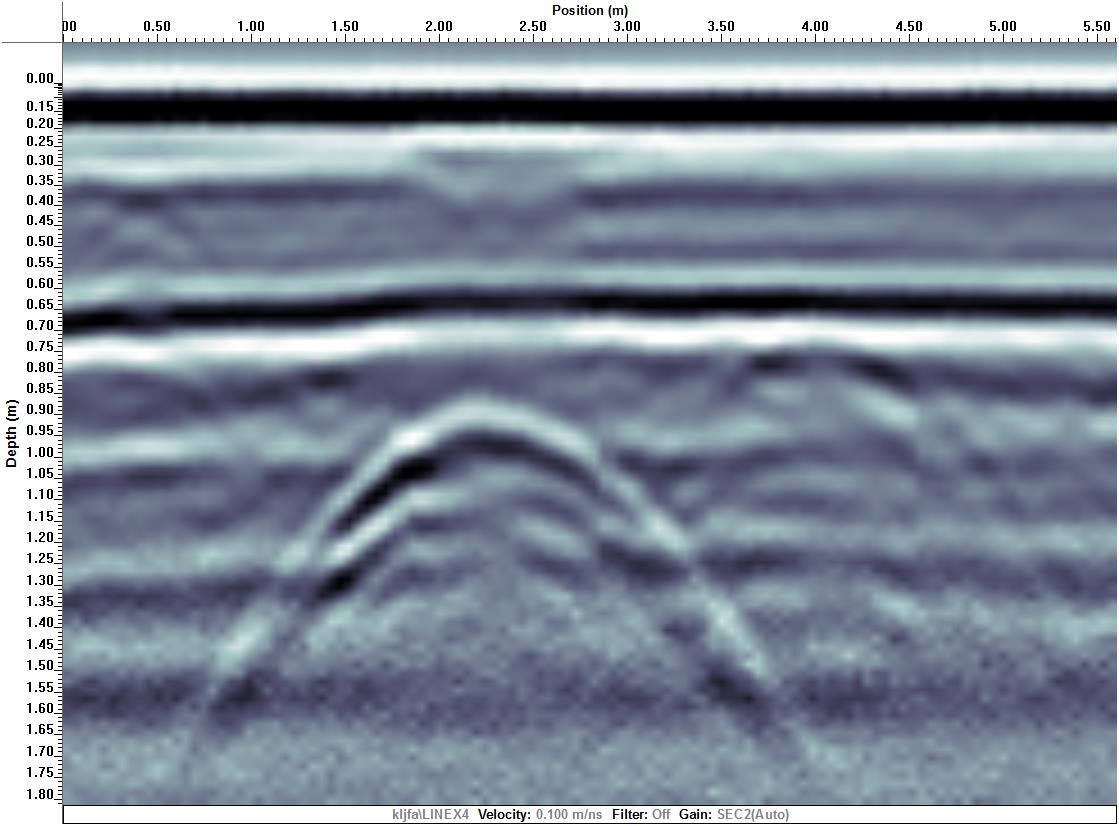hyperbola: (212, 384, 744, 712)
